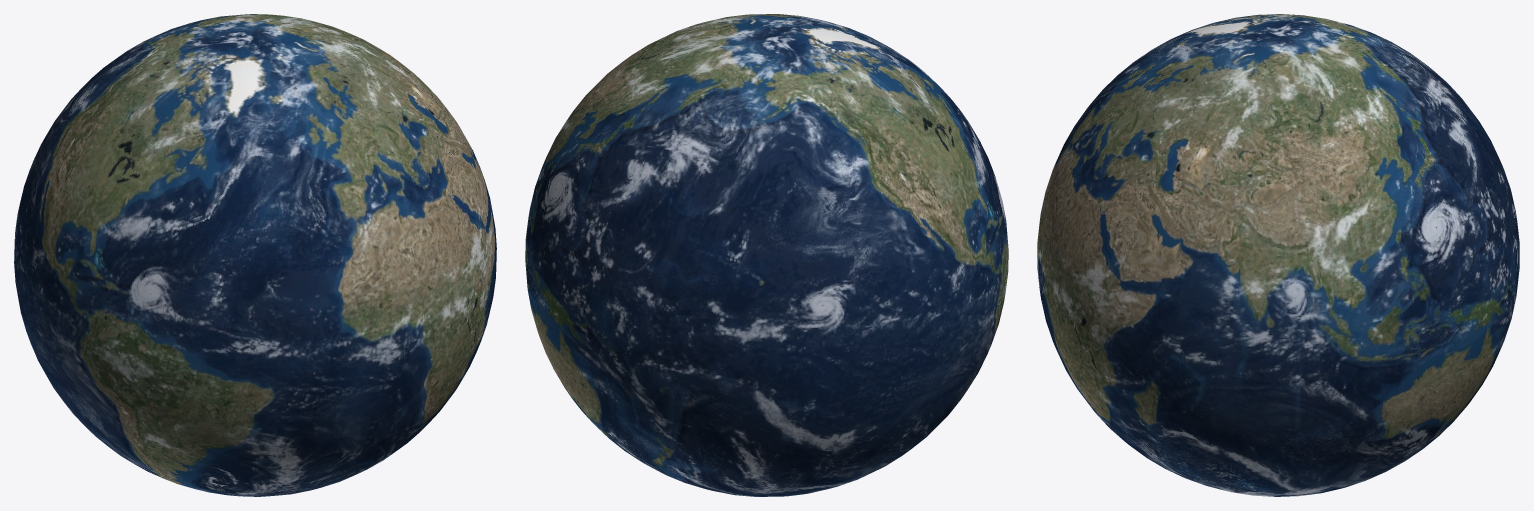
File: earth-photoreal-2k-webp.glb
3 renders of one model, left to right at view 1: azimuth 30°, elevation 25°; view 2: azimuth 150°, elevation 25°; view 3: azimuth 270°, elevation 25°, orthographic.
Visible parts, largest first — view 1: Earth_Photoreal_Optimized; view 2: Earth_Photoreal_Optimized; view 3: Earth_Photoreal_Optimized.
Boxes of the visible parts, <box> form: Earth_Photoreal_Optimized: <box>14,14,496,496</box>; Earth_Photoreal_Optimized: <box>525,14,1008,496</box>; Earth_Photoreal_Optimized: <box>1037,14,1519,496</box>.
Bounding box in the file's own units: 2 × 2 × 2.
Materials: 1 (1 with a texture image).
